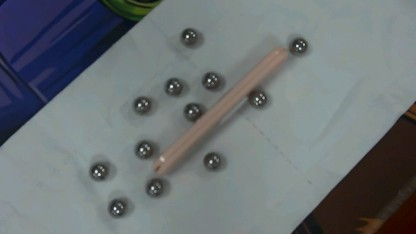ironball: (127, 94, 156, 116), (142, 175, 168, 199), (199, 148, 223, 172), (162, 74, 186, 96), (286, 36, 310, 56), (198, 71, 222, 91), (106, 198, 127, 220), (85, 160, 108, 180), (132, 138, 152, 159), (248, 88, 268, 106), (184, 101, 202, 120), (179, 26, 197, 44)
